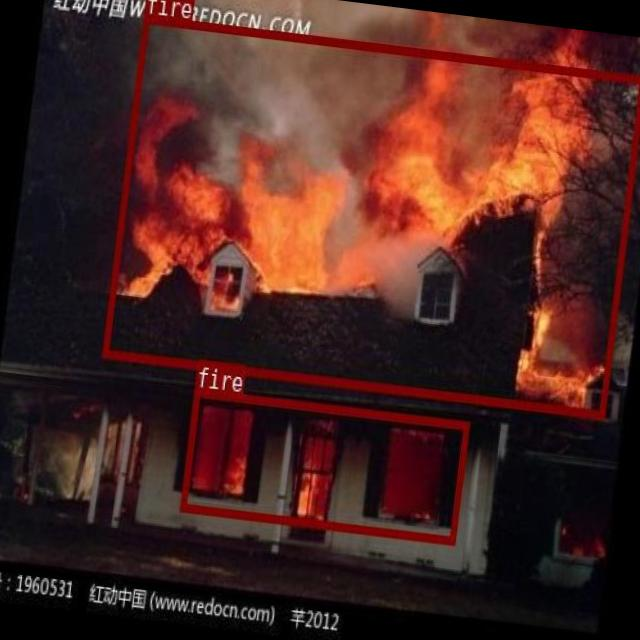fire: (101, 13, 640, 417), (179, 386, 469, 544)
